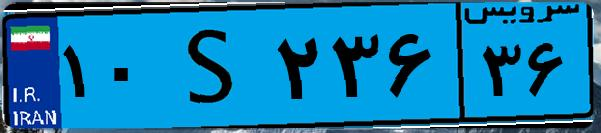0: (110, 28, 158, 98)
1: (57, 26, 110, 100)
2: (270, 28, 330, 110)
3: (330, 28, 385, 110), (475, 38, 525, 113)
6: (385, 28, 445, 110), (525, 38, 570, 115)
S: (158, 12, 270, 120)
